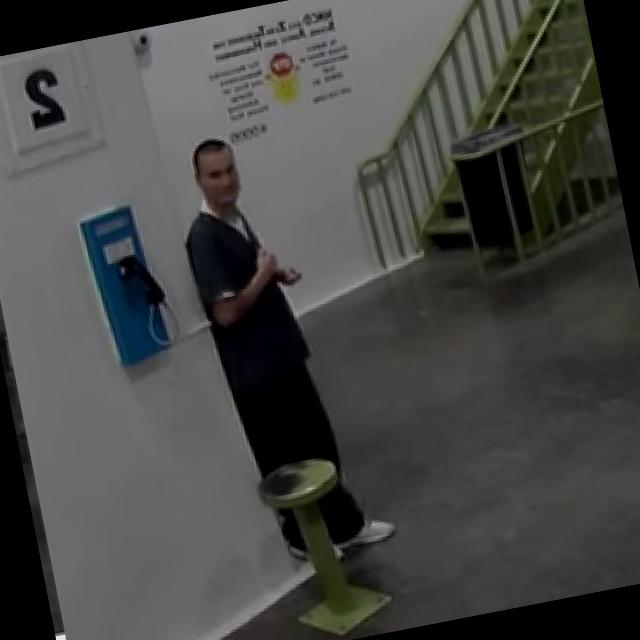person: (165, 120, 396, 574)
